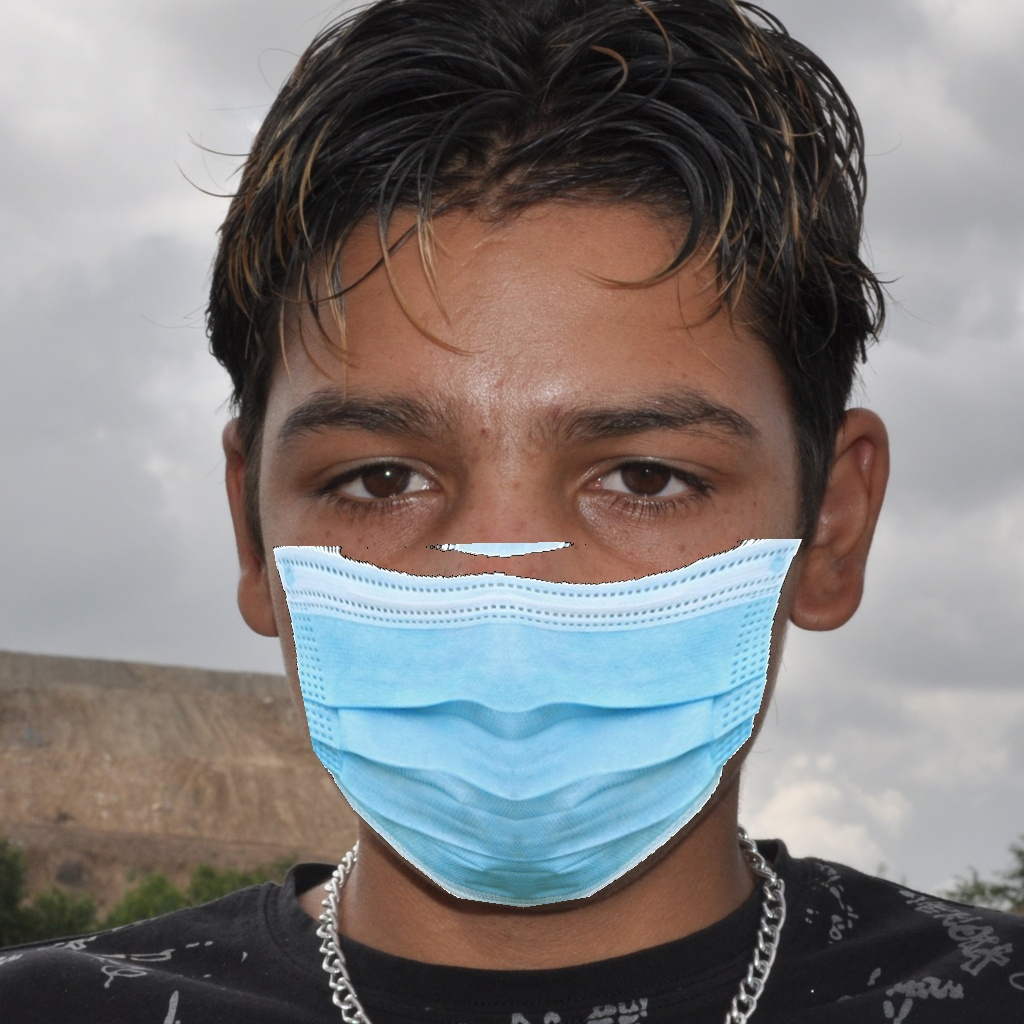with_mask: (279, 390, 788, 911)
